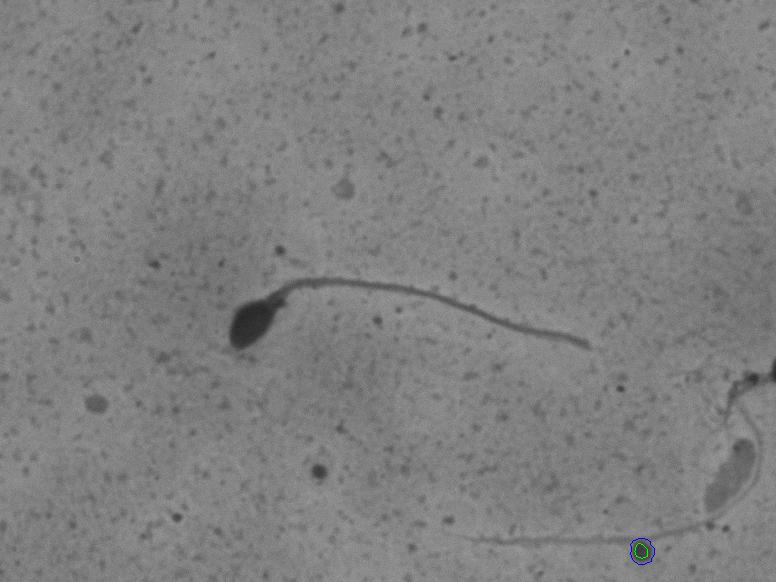Abnormal: (184, 207, 617, 442)
